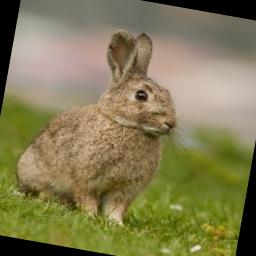rabbit: (16, 29, 177, 224)
